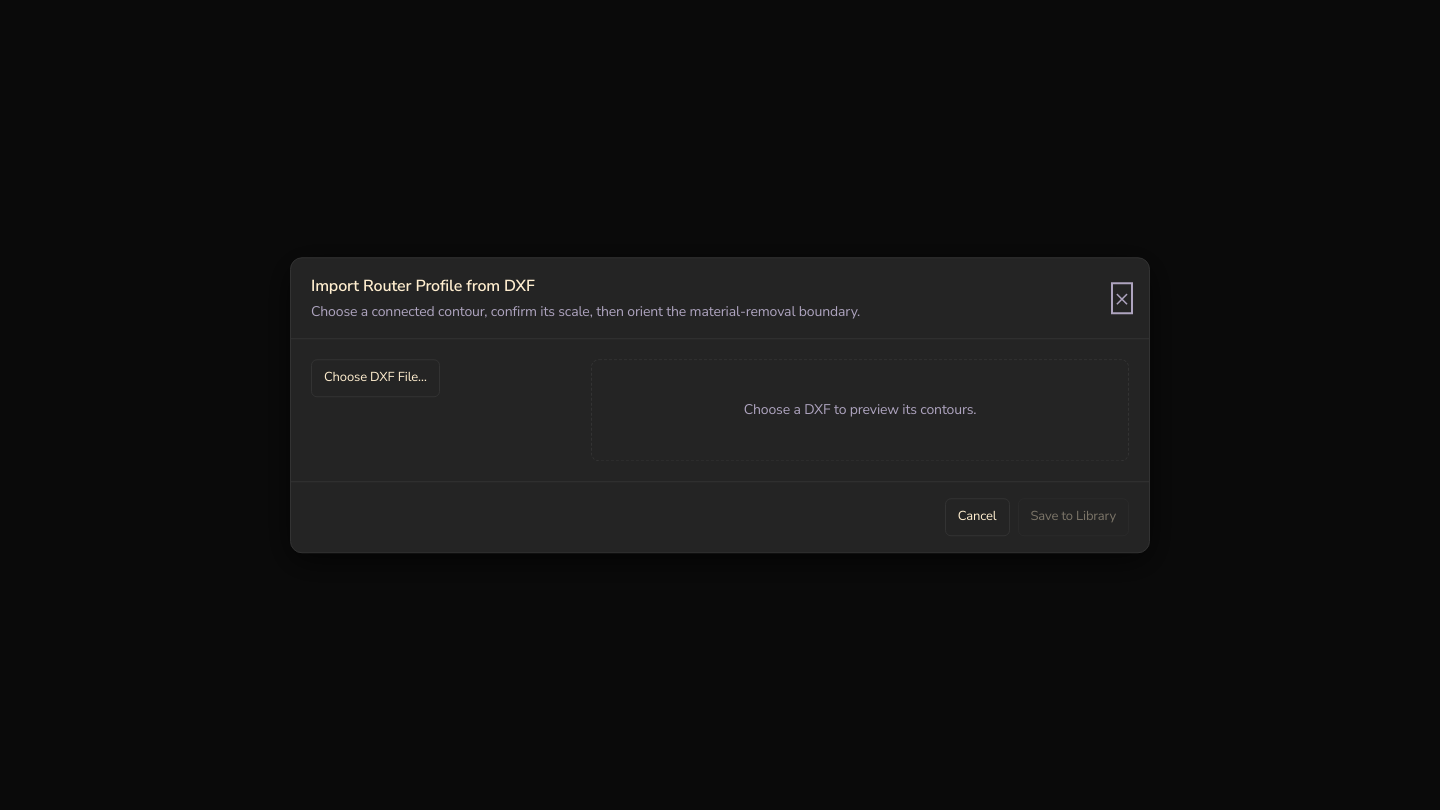
Test: DxfRouterProfileImportDialog › warns when rational spline geometry was approximated
Click the button "Choose DXF File…" at (375, 378), box [311,359,440,397]
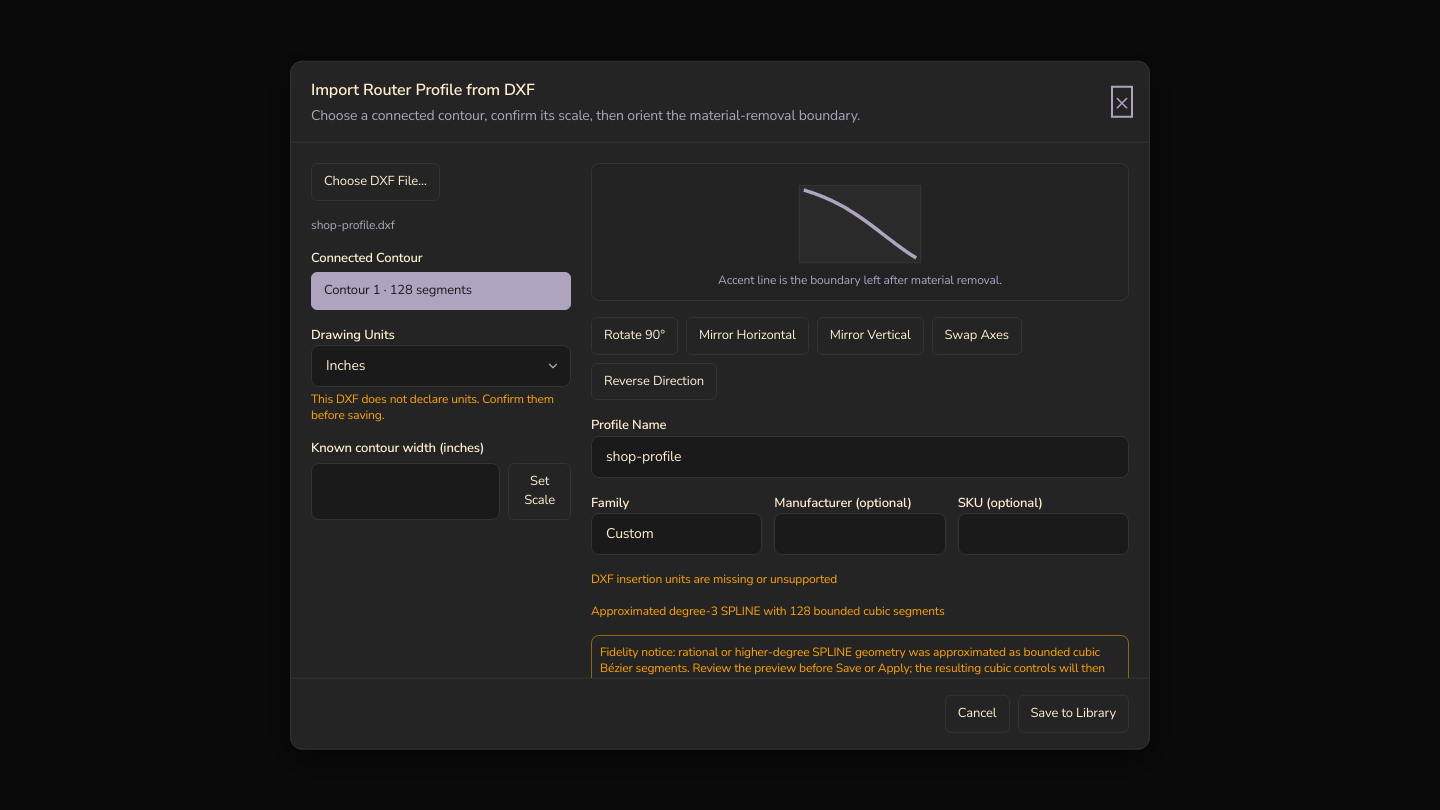
Now the text "Fidelity notice: rational or higher-degree SPLINE geometry was approximated" is shown, box [600,644,1105,678]
